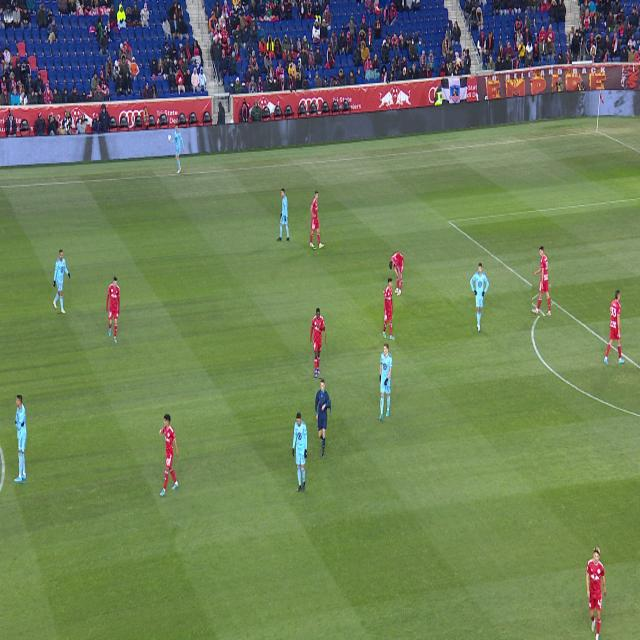player: (586, 546, 607, 640), (159, 414, 179, 496), (604, 290, 625, 365), (532, 246, 551, 316), (470, 263, 489, 332), (292, 412, 307, 492), (14, 396, 27, 482), (379, 342, 393, 420), (53, 250, 70, 313), (311, 309, 325, 378), (106, 277, 120, 343), (310, 191, 325, 248), (383, 277, 395, 340), (276, 188, 289, 241), (389, 252, 404, 296)
referee: (316, 380, 330, 458)
